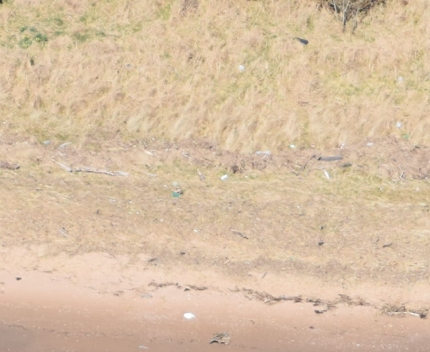scattered_barrel: (160, 116, 414, 214), (231, 30, 318, 76)
straight_bar: (62, 152, 122, 186)
white_in_green: (160, 294, 218, 334)
